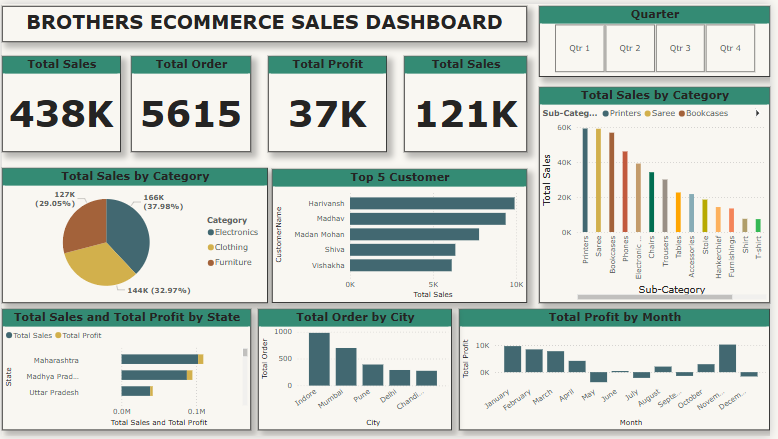

This screenshot's page, from the dashboard's own definition file:
{"tool":"powerbi","page":{"name":"Page 1","canvas":[1280,720],"ordinal":0},"visuals":[{"type":"card","title":"Total Sales","fields":{"Values":["Details.Total Sales"]},"box":[0,86.2,197.5,160],"z":0},{"type":"card","title":"Total Profit","fields":{"Values":["Details.Total Profit"]},"box":[442.5,86.2,197.5,160],"z":1},{"type":"card","title":"Total Order","fields":{"Values":["Details.Total Order"]},"box":[215,86.2,200,160],"z":2},{"type":"card","title":"Total Sales","fields":{"Values":["Details.Avg Order Value"]},"box":[670,86.2,205,160],"z":3},{"type":"textbox","box":[0,3.3,875,60],"z":4},{"type":"slicer","title":"Quarter","fields":{"Values":["Orders.Order Date.Variation.Date Hierarchy.Quarter"]},"box":[895,2.5,385,117.5],"z":5},{"type":"pieChart","fields":{"Y":["Details.Total Sales"],"Category":["Details.Category"]},"box":[0,272.5,442.5,225],"z":6},{"type":"barChart","title":"Top 5 Customer","fields":{"Y":["Details.Total Sales"],"Category":["Orders.CustomerName"]},"box":[450,275,425,222.5],"z":8},{"type":"ribbonChart","title":"Total Sales by Category","fields":{"Category":["Details.Sub-Category"],"Y":["Details.Total Sales"],"Series":["Details.Sub-Category"]},"box":[895,138.3,385,360],"z":9},{"type":"barChart","fields":{"Category":["Orders.State"],"Y":["Details.Total Sales","Details.Total Profit"]},"box":[0,508.3,415,201.7],"z":10},{"type":"columnChart","fields":{"Category":["Orders.Order Date.Variation.Date Hierarchy.Month"],"Y":["Details.Total Profit"]},"box":[761.7,508.3,518.3,201.7],"z":11},{"type":"lineStackedColumnComboChart","fields":{"Category":["Orders.City"],"Y":["Details.Total Order"]},"box":[426.7,508.3,323.3,201.7],"z":12}]}

Visuals, with their boxes in screenshot pixels (x1, y1, x2, y2), scaled from the page's 1280x720 canvas onto the 778x439 screenshot:
"Total Sales" card: left=0, top=53, right=120, bottom=150
"Total Profit" card: left=269, top=53, right=389, bottom=150
"Total Order" card: left=131, top=53, right=252, bottom=150
"Total Sales" card: left=407, top=53, right=532, bottom=150
textbox: left=0, top=2, right=532, bottom=39
"Quarter" slicer: left=544, top=2, right=777, bottom=73
pieChart - Details.Total Sales x Details.Category: left=0, top=166, right=269, bottom=303
"Top 5 Customer" barChart: left=274, top=168, right=532, bottom=303
"Total Sales by Category" ribbonChart: left=544, top=84, right=777, bottom=304
barChart - Orders.State x Details.Total Sales: left=0, top=310, right=252, bottom=433
columnChart - Orders.Order Date.Variation.Date Hierarchy.Month x Details.Total Profit: left=463, top=310, right=777, bottom=433
lineStackedColumnComboChart - Orders.City x Details.Total Order: left=259, top=310, right=456, bottom=433
